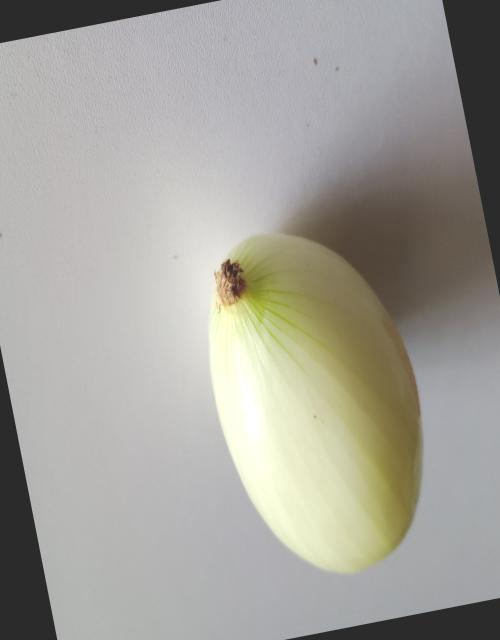Cebolla-: (158, 128, 500, 633)
